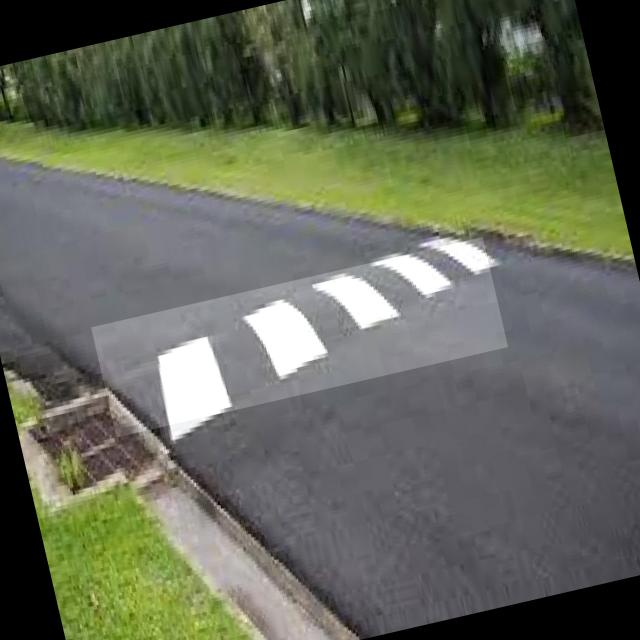bump: (90, 236, 508, 437)
